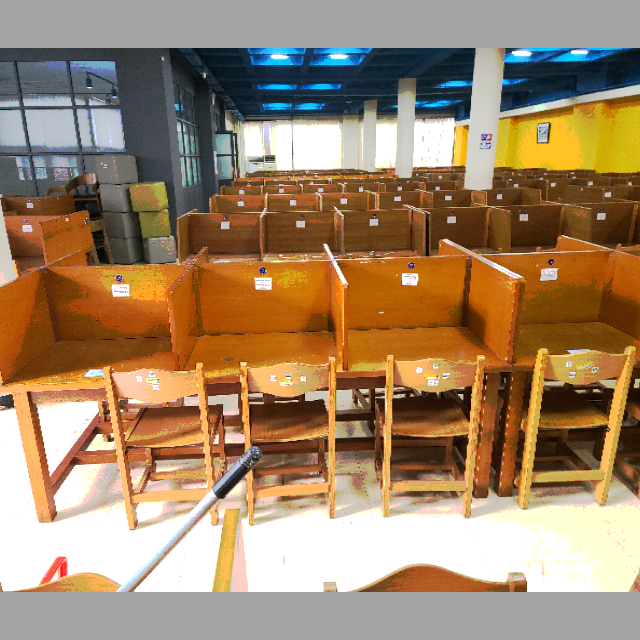empty: (1, 260, 182, 440), (184, 254, 353, 423), (353, 250, 512, 426)
